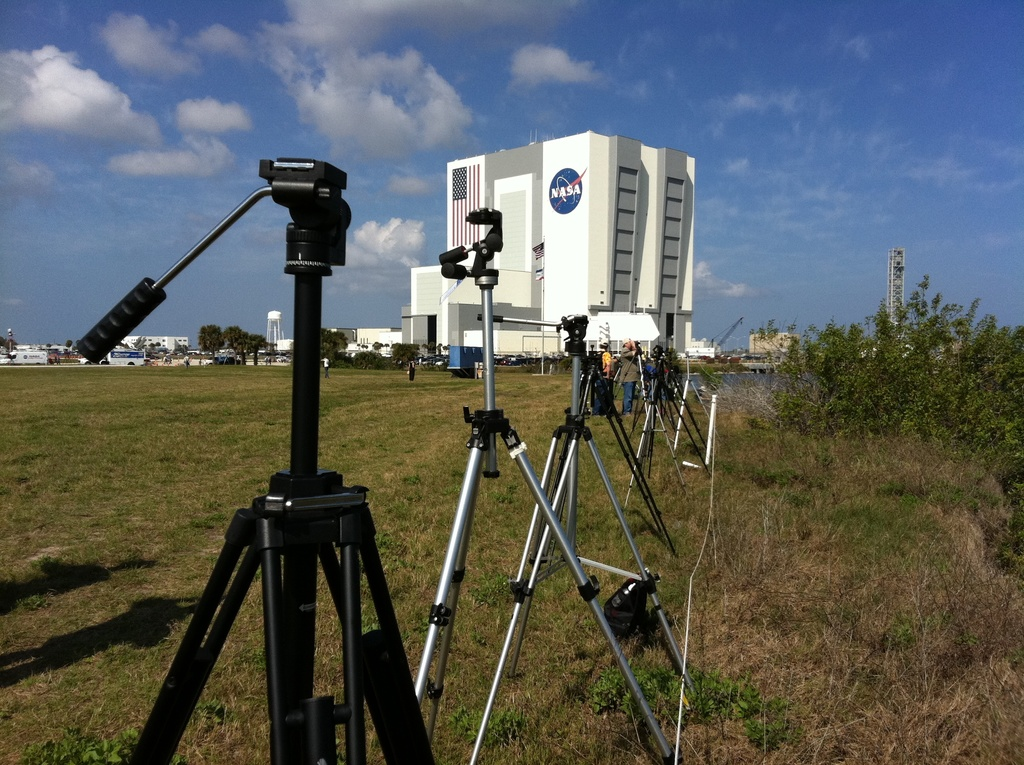Person: (621, 342, 640, 413), (593, 353, 613, 415), (408, 359, 415, 382), (323, 356, 328, 376), (184, 356, 187, 368)
